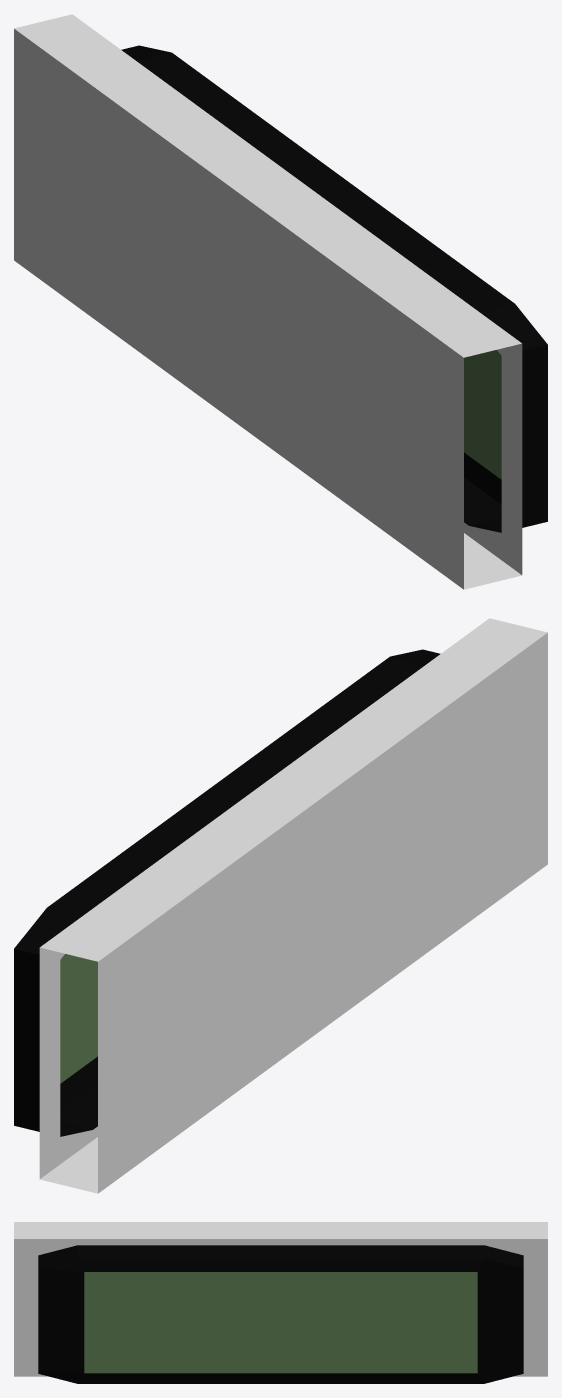
The model's file is voltmeter.fbx.
The picture shows the model from 3 angles, top to bottom: view 1: azimuth 30°, elevation 25°; view 2: azimuth 150°, elevation 25°; view 3: azimuth 270°, elevation 25°; orthographic projection. The views are drawn at different scales.
Parts seen in each view (by area): view 1: Cube; view 2: Cube; view 3: Cube.
Boxes of the visible parts, x1,y1,x2,y2 form: Cube: (14,14,547,589); Cube: (14,618,547,1193); Cube: (14,1222,547,1383).
Size of the model in its own units: 28.14 by 56.9 by 200.
